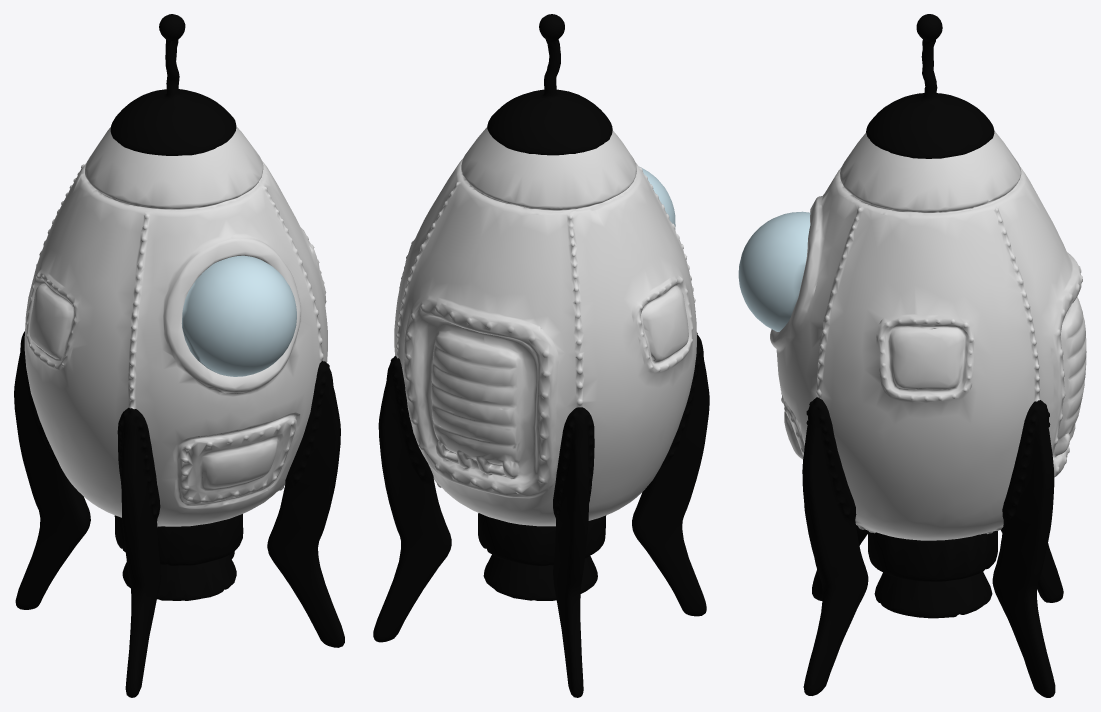
File: NAVE.fbx
3 views of the same model, side by side, from view 1: azimuth 30°, elevation 25°; view 2: azimuth 150°, elevation 25°; view 3: azimuth 270°, elevation 25° (orthographic). The views are drawn at different scales.
Parts seen in each view (by area): view 1: Roundcube; view 2: Roundcube; view 3: Roundcube.
Boxes of the visible parts, x1,y1,x2,y2 form: Roundcube: [14, 14, 344, 697]; Roundcube: [373, 14, 709, 697]; Roundcube: [738, 14, 1086, 697].
Size of the model in its own units: 678 by 1496 by 748.
